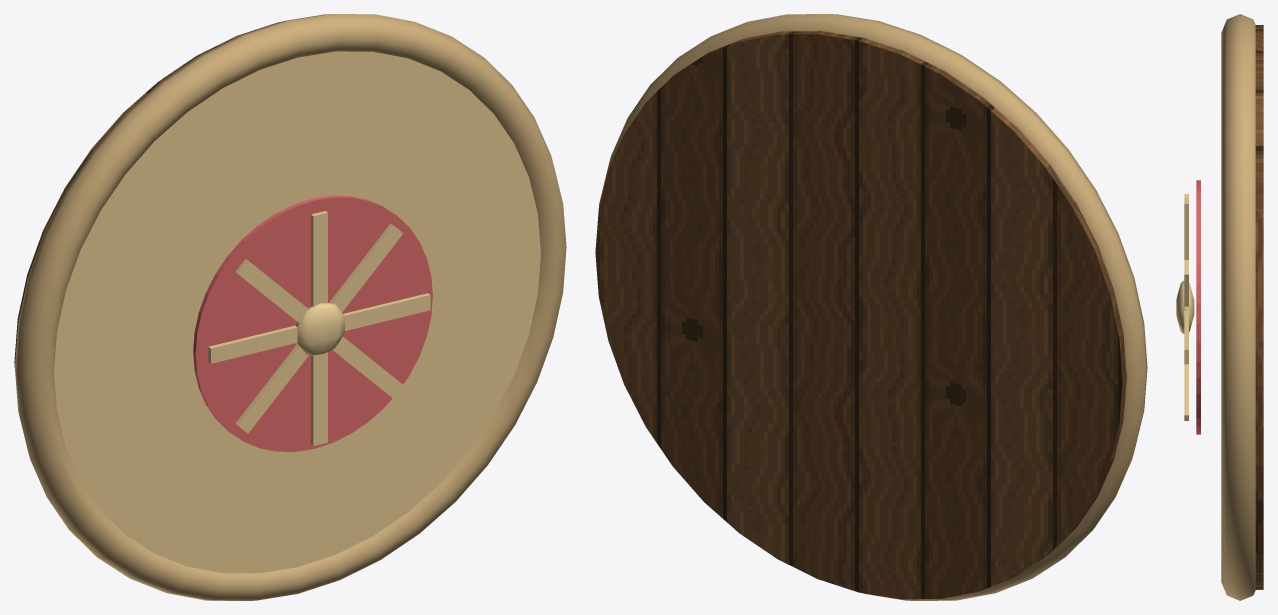
File: Shield_Hoplite.gltf
3 views of the same model, side by side, from view 1: azimuth 30°, elevation 25°; view 2: azimuth 150°, elevation 25°; view 3: azimuth 270°, elevation 25° (orthographic). The views are drawn at different scales.
Parts seen in each view (by area): view 1: Shield_Hoplite; view 2: Shield_Hoplite; view 3: Shield_Hoplite.
Part boxes in pixels (<box>): Shield_Hoplite: <box>14,14,566,600</box>; Shield_Hoplite: <box>595,14,1147,600</box>; Shield_Hoplite: <box>1176,14,1263,600</box>.
Bounding box in the file's own units: 0.748 × 0.748 × 0.1114.
Materials: 5 (1 with a texture image).
